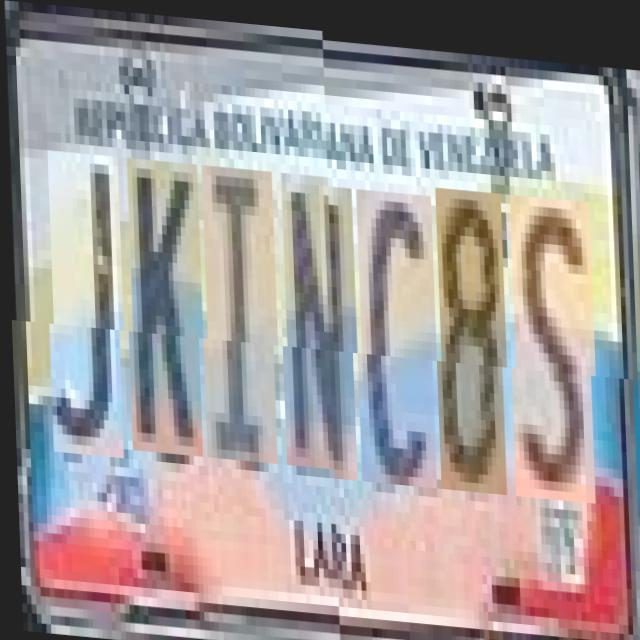8: (434, 179, 508, 485)
C: (355, 182, 438, 480)
I: (200, 170, 280, 468)
J: (46, 159, 126, 466)
K: (126, 165, 205, 462)
N: (280, 176, 359, 474)
S: (508, 184, 596, 492)
